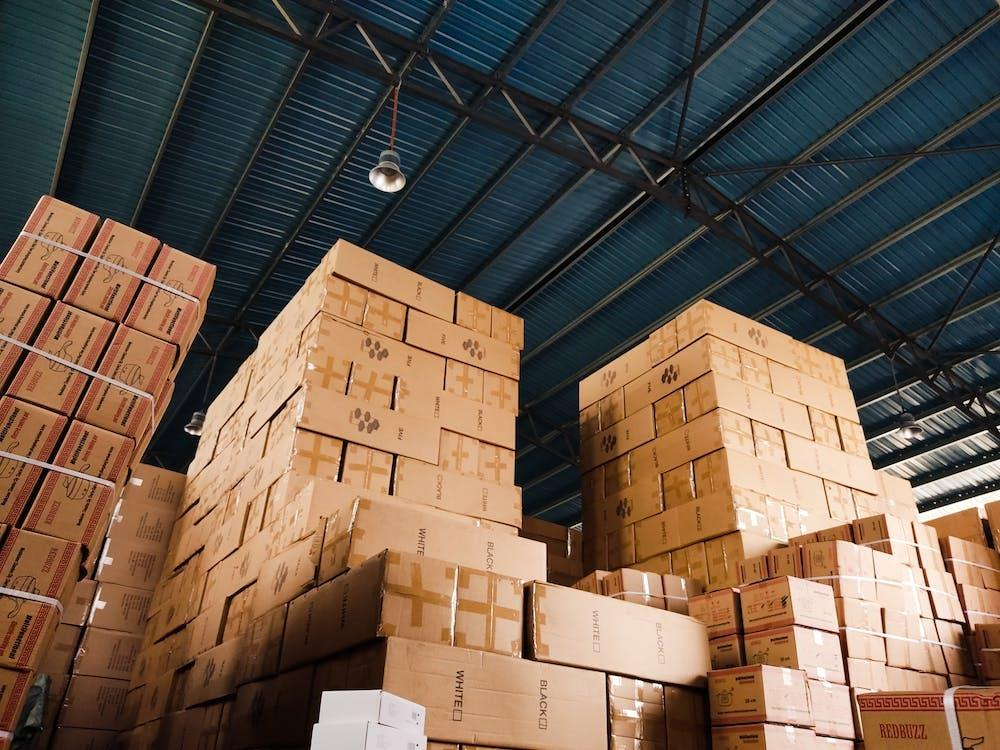Box: (223, 635, 617, 750), (273, 543, 532, 677), (316, 492, 550, 586), (194, 483, 354, 615), (526, 577, 714, 688), (16, 415, 133, 580), (262, 379, 449, 470), (65, 318, 180, 460), (1, 290, 124, 422), (296, 237, 458, 329), (296, 310, 452, 394), (169, 607, 286, 718), (623, 407, 761, 495), (0, 188, 108, 299), (0, 524, 81, 672), (225, 427, 349, 521), (60, 215, 162, 328), (620, 331, 749, 420), (0, 386, 77, 532), (679, 369, 817, 446), (630, 489, 772, 563), (389, 373, 517, 454), (390, 456, 527, 531), (399, 300, 521, 384), (672, 298, 802, 372), (248, 513, 332, 623), (288, 273, 414, 345), (693, 449, 828, 513), (777, 425, 882, 499), (0, 272, 57, 400), (310, 689, 428, 750), (141, 236, 217, 322), (709, 664, 814, 726), (772, 354, 863, 425), (582, 401, 660, 480), (196, 355, 256, 455), (744, 625, 846, 683), (53, 666, 137, 735), (125, 283, 201, 358), (449, 285, 528, 356), (740, 576, 838, 633), (877, 604, 952, 678), (857, 691, 951, 750), (433, 423, 518, 488), (799, 535, 880, 601), (584, 476, 663, 542), (578, 339, 652, 409), (336, 430, 405, 504), (92, 527, 168, 592), (70, 623, 149, 685), (192, 497, 252, 578), (608, 673, 670, 750), (172, 443, 231, 523), (81, 576, 160, 635), (118, 456, 195, 515), (850, 514, 926, 571), (833, 596, 890, 669), (116, 670, 177, 738), (108, 499, 180, 555), (175, 595, 228, 671), (340, 357, 404, 415), (941, 532, 1000, 592), (952, 682, 1000, 750), (583, 521, 637, 579), (874, 549, 922, 614), (688, 588, 742, 639), (577, 385, 626, 441), (793, 340, 850, 388), (657, 456, 702, 516), (810, 680, 855, 737), (647, 384, 689, 440), (705, 531, 744, 589), (256, 316, 297, 370), (925, 568, 965, 622), (880, 471, 918, 521), (672, 543, 709, 589), (912, 521, 945, 571), (445, 359, 484, 401), (753, 420, 787, 466), (767, 496, 801, 541), (482, 371, 518, 413), (602, 451, 632, 498), (739, 348, 771, 390), (810, 406, 842, 448), (709, 633, 746, 669), (648, 320, 678, 364), (825, 480, 857, 521), (839, 418, 869, 458), (853, 490, 887, 517)
